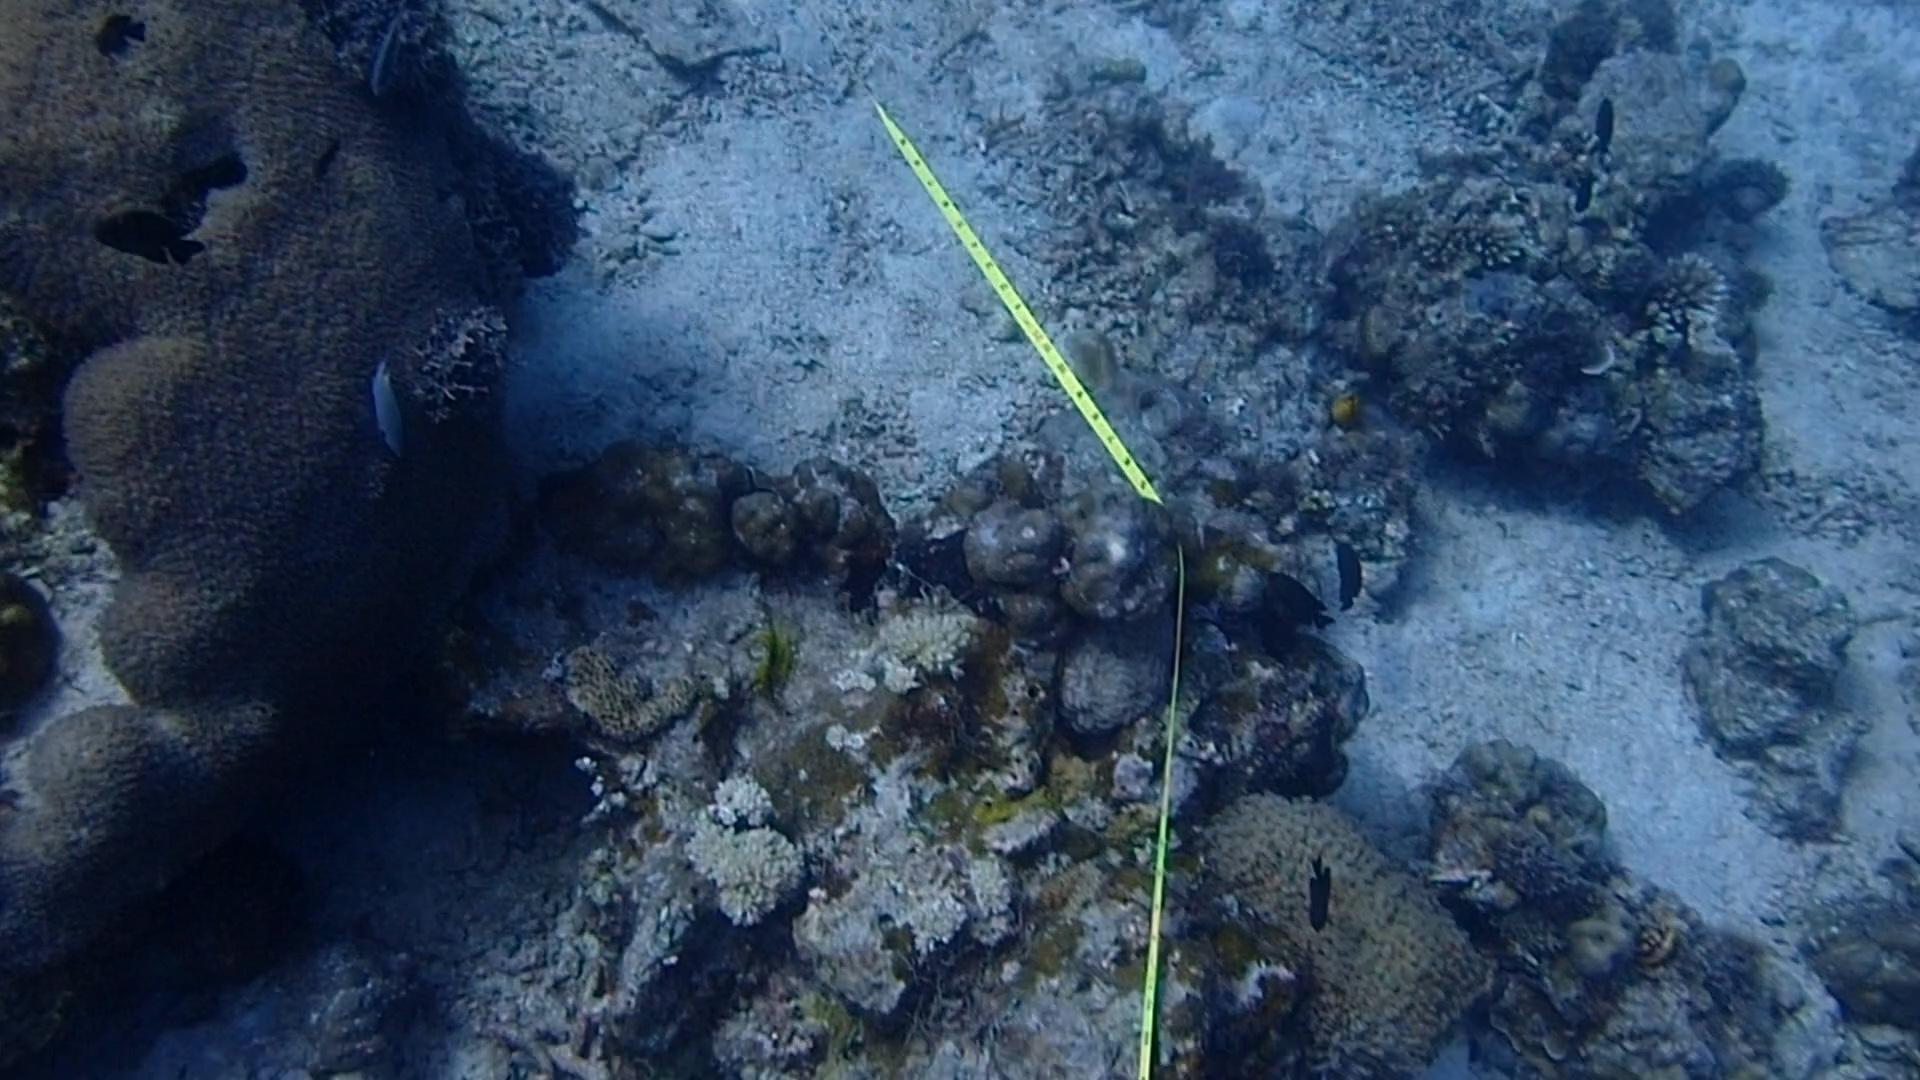Dark Fish: (70, 190, 208, 289), (1418, 880, 1513, 959), (1265, 558, 1338, 636), (1292, 840, 1352, 936), (1327, 526, 1373, 604), (83, 11, 152, 58), (301, 119, 351, 183), (1585, 86, 1621, 156), (1559, 165, 1602, 218)
Light Fish: (356, 344, 409, 468), (365, 4, 410, 98)
